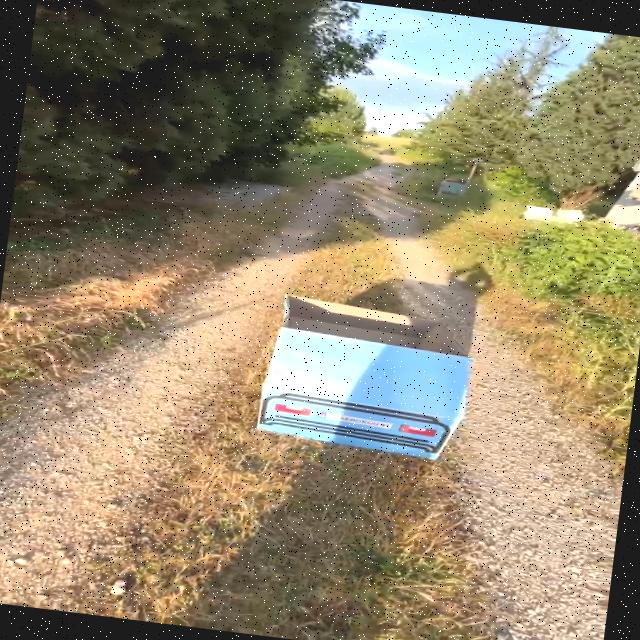blue_car: (187, 253, 539, 491)
